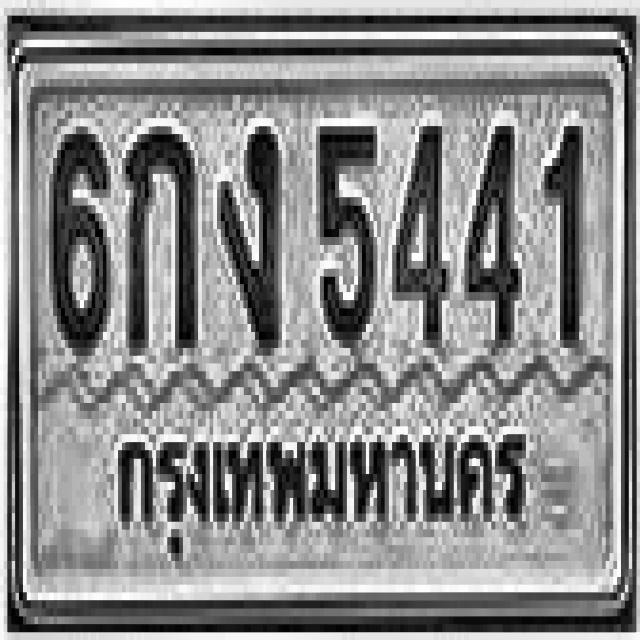license-plate: (11, 29, 636, 627)
